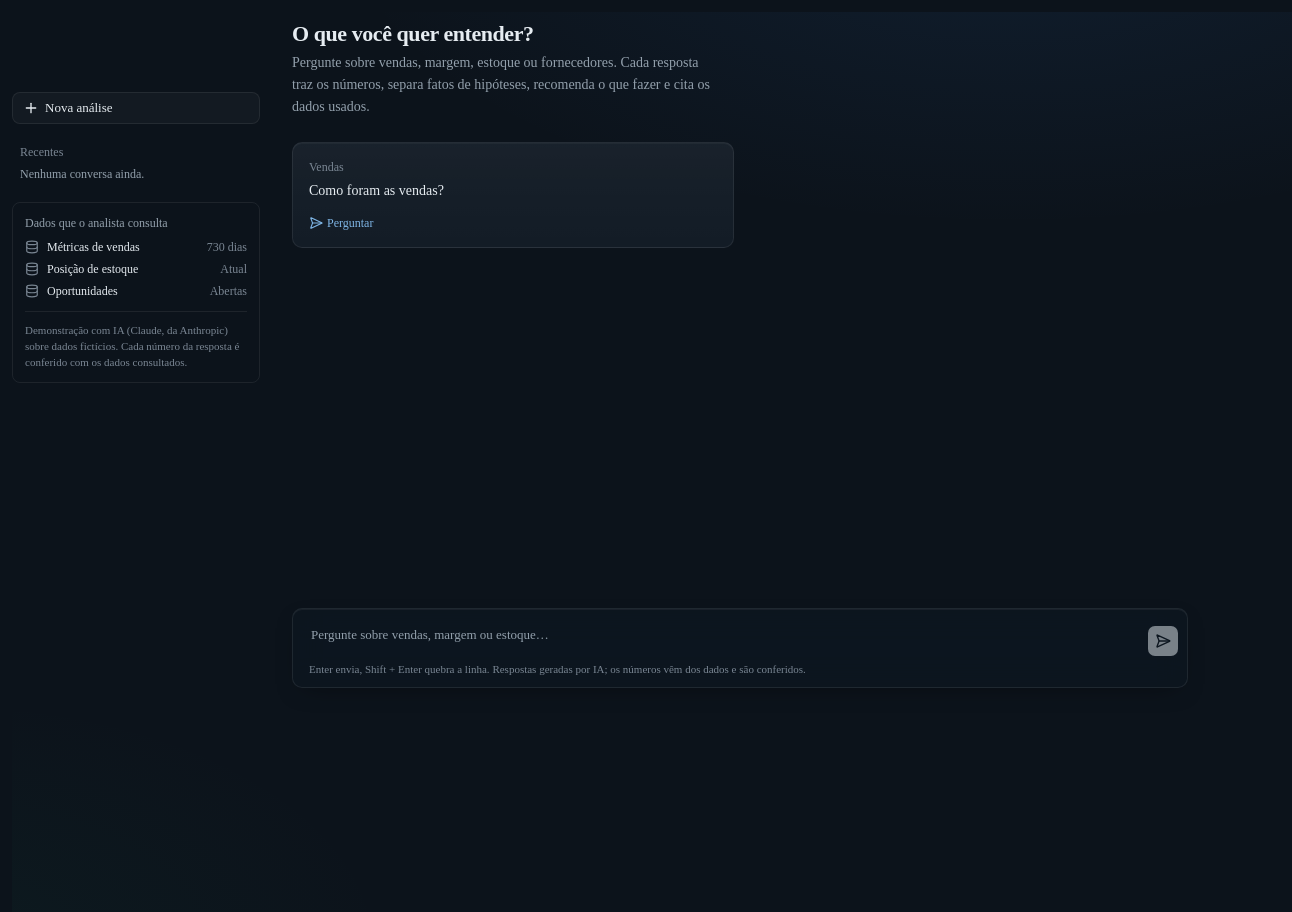
Test case: analista ao vivo › demonstração: envia o histórico da conversa, já que nada fica salvo no servidor
Type "Primeira?" into the text box named "Pergunta para o analista".
click(720, 637); type("Primeira?")  # box [301,617,1139,657]
Then press Enter
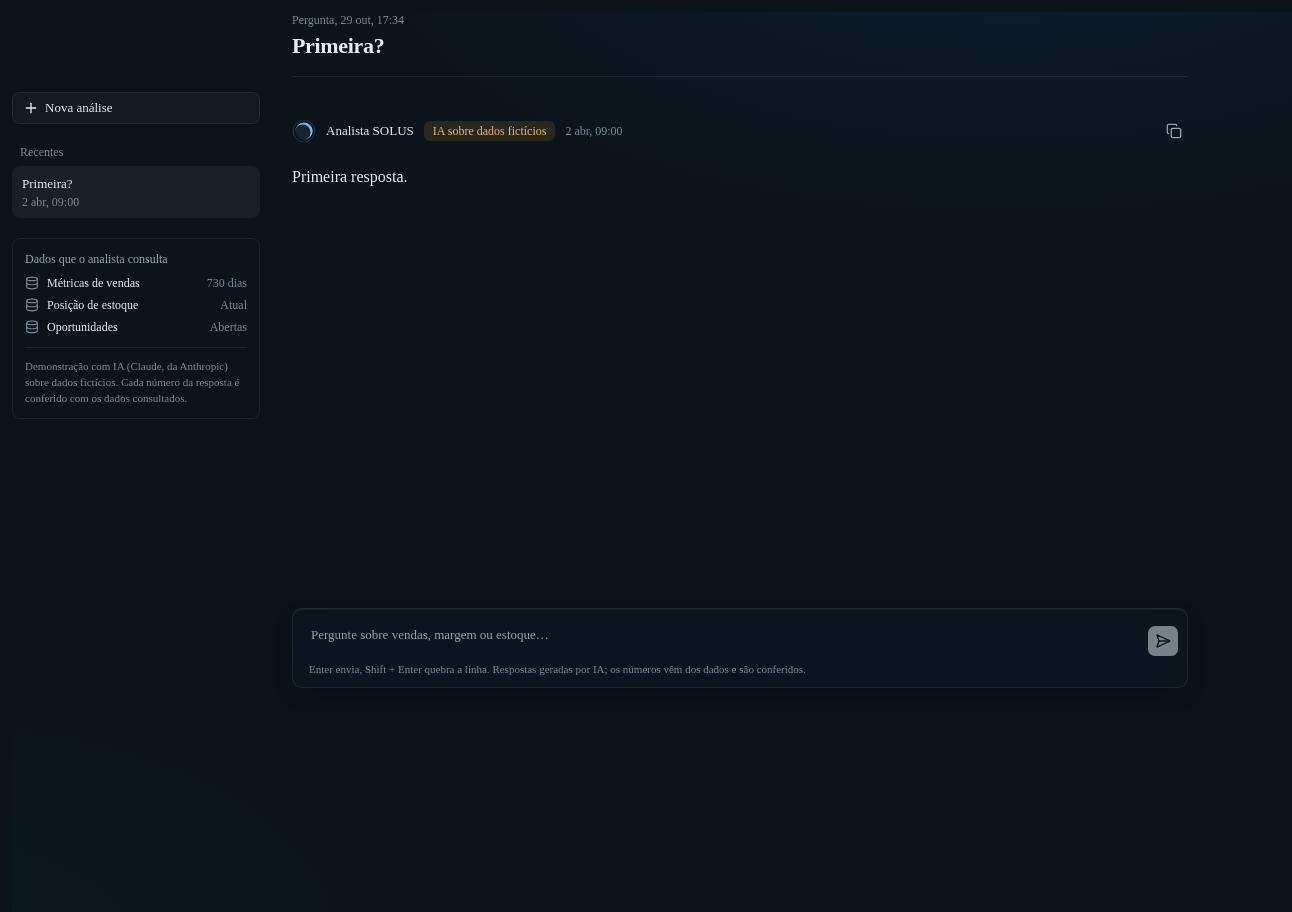
Now the text "Primeira resposta." is shown, box [292,168,408,185]
Type "Segunda?" into the text box named "Pergunta para o analista".
click(720, 637); type("Segunda?")  # box [301,617,1139,657]
Then press Enter
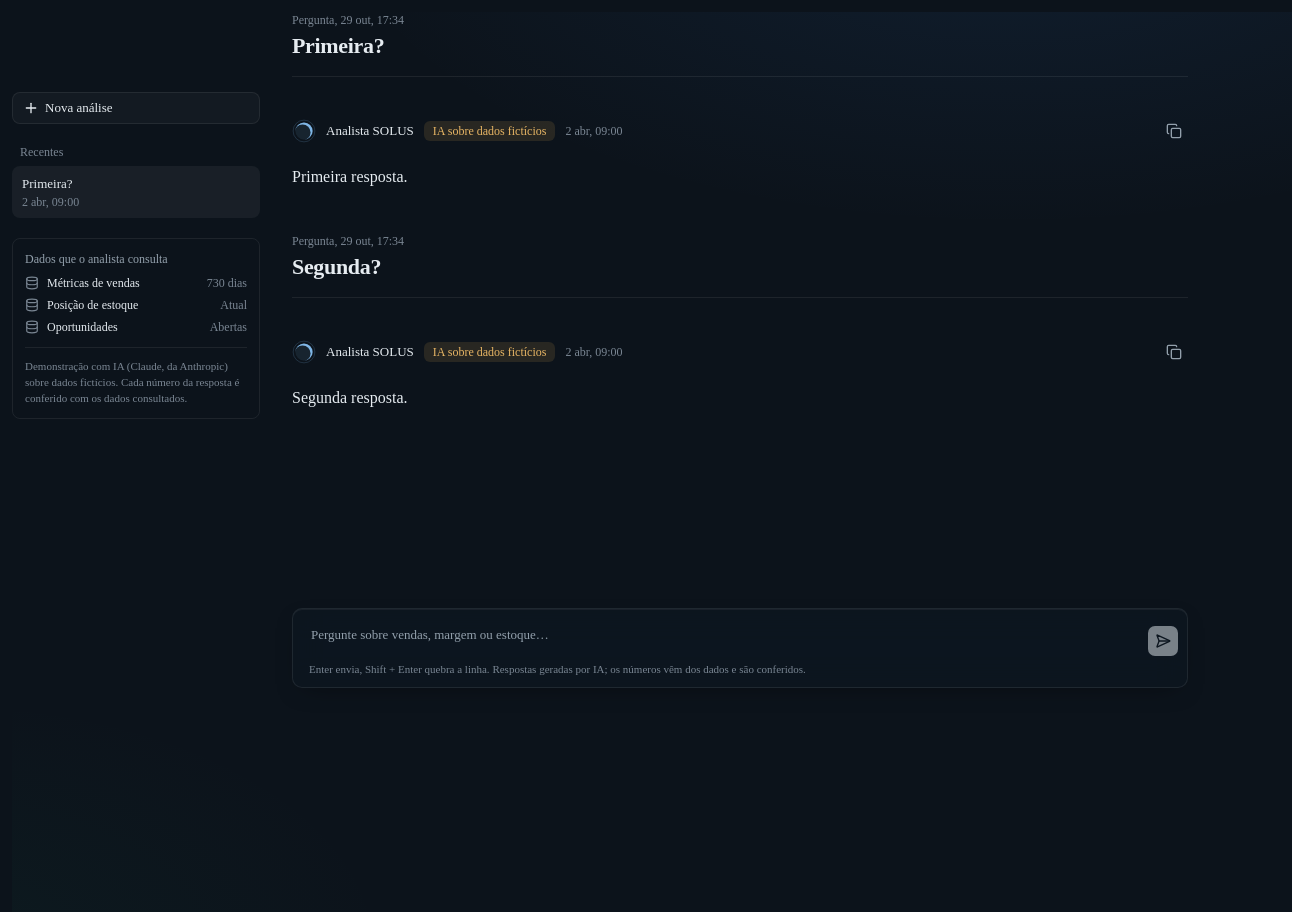
Now the text "Segunda resposta." is shown, box [292,389,408,406]
Now the text "IA sobre dados fictícios" is shown 2 times, box [424,121,556,141]; [424,342,556,362]
